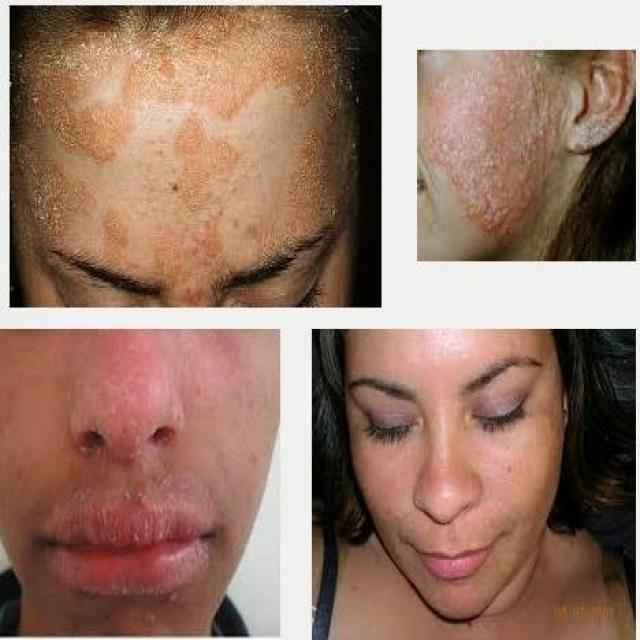Dry-Skin: (2, 332, 265, 636)
